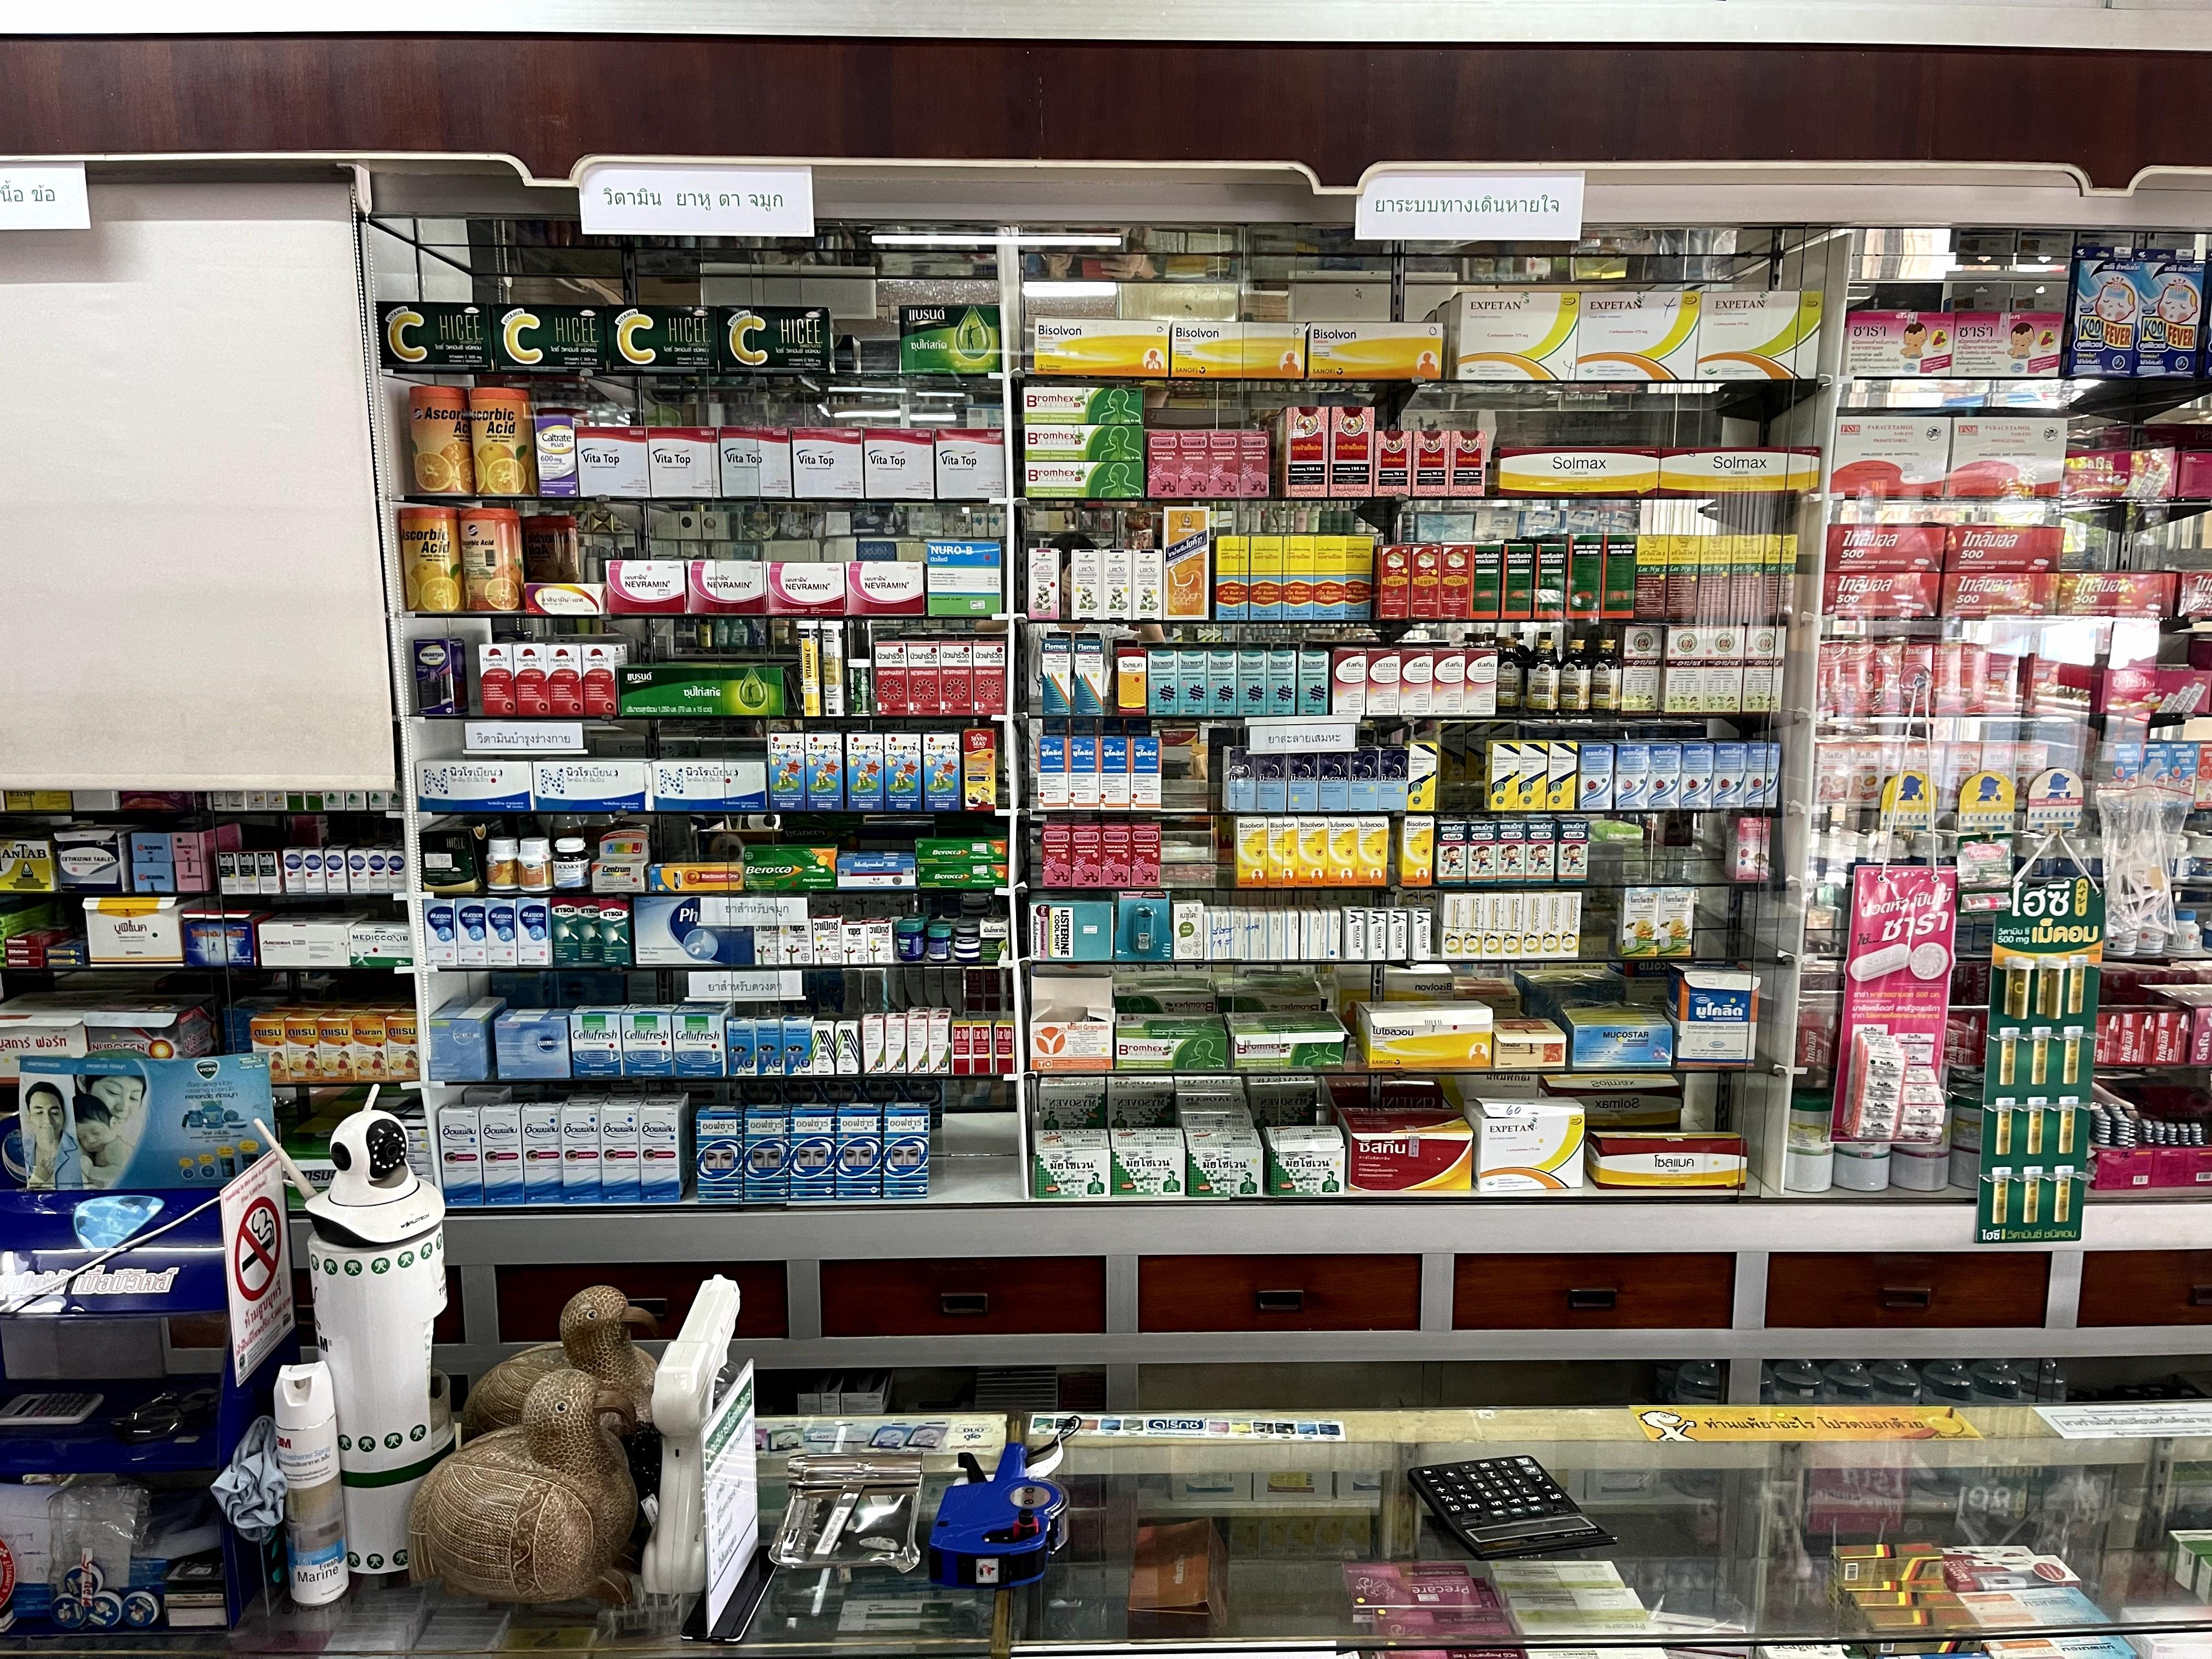Black-Tiger: (1500, 544, 1533, 620), (1534, 544, 1566, 619), (1470, 544, 1500, 620)
Black-Tiger_Big: (1566, 532, 1601, 619), (1604, 532, 1635, 619)
Cisteine: (1366, 647, 1400, 716), (1465, 648, 1500, 716), (1400, 648, 1433, 714), (1433, 647, 1465, 716), (1334, 647, 1364, 716)
Cisteine_Box: (1338, 1107, 1474, 1190)
Heamovit: (547, 643, 585, 716), (582, 643, 620, 716), (514, 641, 550, 716), (479, 643, 517, 714)
Iyara: (1411, 544, 1442, 619), (1440, 544, 1472, 619), (1378, 545, 1409, 619)
Lac-Oph_Red: (972, 1021, 993, 1073), (995, 1021, 1015, 1073), (951, 1021, 970, 1075)
Ma-Kham-Pom: (1214, 535, 1251, 622), (1249, 533, 1284, 622), (1282, 533, 1315, 620), (1313, 533, 1346, 620), (1346, 535, 1374, 622)
Ma-Kham-Pom_Bottle: (1526, 640, 1561, 716), (1559, 640, 1590, 718), (1590, 640, 1620, 713), (1498, 640, 1524, 714)
Ma-Vaeng_Light: (1029, 547, 1061, 619)
Ma-Vaeng_Syrup: (1132, 547, 1163, 620), (1071, 549, 1103, 620), (1103, 549, 1132, 620)
Muclear: (1407, 908, 1430, 960), (1343, 908, 1364, 960), (1386, 908, 1407, 960), (1366, 908, 1386, 958)
Mucolax: (1223, 746, 1258, 812), (1256, 746, 1287, 814), (1287, 746, 1318, 810), (1350, 746, 1379, 812), (1379, 744, 1409, 810), (1318, 746, 1346, 810)
Nac-Long: (1204, 910, 1224, 960), (1320, 910, 1341, 960), (1240, 911, 1261, 960), (1299, 910, 1320, 958), (1261, 911, 1280, 960), (1280, 911, 1299, 960), (1223, 911, 1242, 958)
NatC: (519, 838, 554, 890), (488, 838, 521, 890)
Nevramin: (686, 558, 766, 613), (845, 559, 925, 615), (604, 559, 686, 613), (765, 561, 845, 615)
Newpharvit: (907, 641, 941, 714), (974, 641, 1007, 714), (941, 640, 972, 713), (876, 641, 907, 713)
Opplin: (439, 1103, 484, 1206), (481, 1103, 524, 1206), (639, 1101, 681, 1204), (523, 1101, 563, 1202), (563, 1101, 603, 1202), (601, 1101, 641, 1201)
Opsar: (744, 1105, 789, 1201), (791, 1103, 836, 1199), (836, 1103, 881, 1199), (697, 1108, 742, 1202), (883, 1103, 928, 1197)
Pei-Pa-Koa: (1411, 430, 1447, 498), (1449, 429, 1486, 497), (1374, 430, 1411, 497)
Pei-Pa-Koa_Big: (1278, 408, 1329, 498), (1331, 406, 1374, 497)
Rhinalax: (1176, 648, 1207, 716), (1146, 650, 1177, 716), (1237, 647, 1266, 714), (1266, 650, 1296, 714), (1298, 650, 1327, 713), (1209, 648, 1237, 714)
Rhinalax-B: (1146, 429, 1181, 498), (1238, 429, 1270, 498), (1179, 429, 1209, 498), (1209, 429, 1238, 498), (1101, 824, 1130, 889), (1043, 823, 1071, 889), (1073, 823, 1101, 889), (1132, 826, 1162, 887)
Solmax: (1118, 647, 1148, 714)
Solmax-Capsule: (1587, 1131, 1747, 1190), (1494, 446, 1658, 498), (1660, 446, 1818, 495)
VapoRub_Big: (899, 918, 925, 962)
VapoRub_Mid: (928, 925, 951, 962)
VapoRub_Small: (954, 939, 981, 951), (954, 951, 981, 964), (954, 924, 981, 936)
Vislube20: (495, 1016, 571, 1077), (503, 1009, 573, 1018)
Vislube60: (427, 997, 507, 1082)
